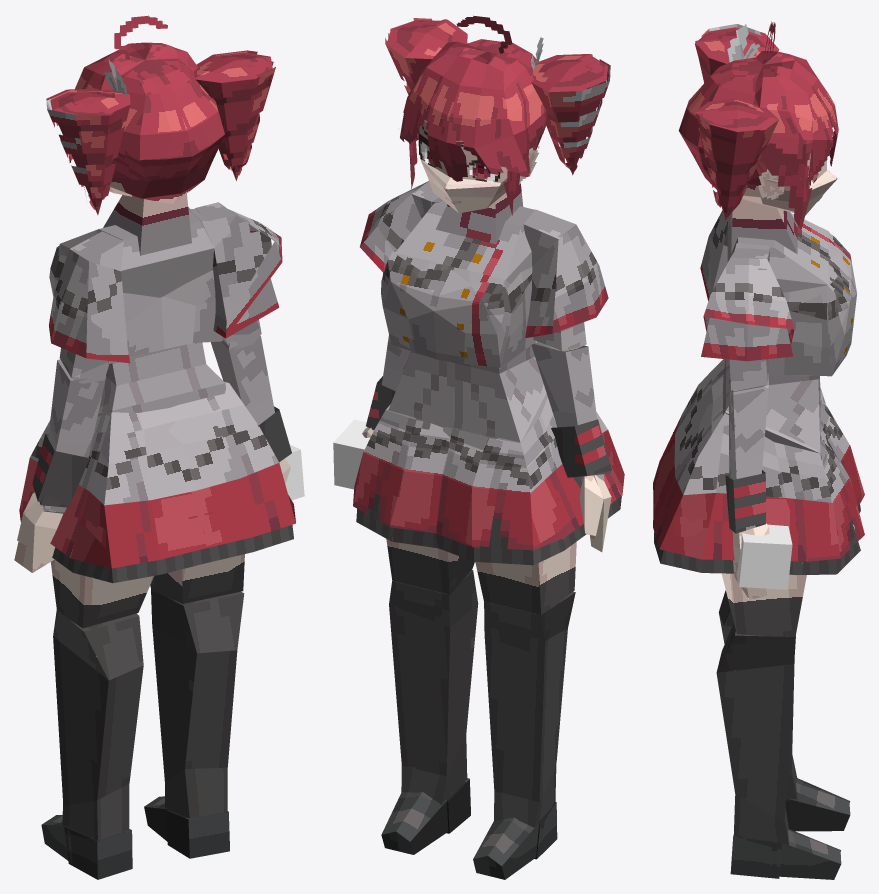
Rendered from teto.gltf.
3 renders of one model, left to right at view 1: azimuth 30°, elevation 25°; view 2: azimuth 150°, elevation 25°; view 3: azimuth 270°, elevation 25°, orthographic. The views are drawn at different scales.
Visible parts, largest first — view 1: Dress (×2), right_leg (×2), left_leg (×2), Body, Head_selection, Drills, right sleeve, left sleeve, right_arm (×2), Booba_selection, left_arm (×2), right_shoe (+5 smaller); view 2: Dress (×2), right_leg (×2), left_leg (×2), Body, Head_selection, Booba_selection, Drills, right sleeve, right_arm (×2), left_shoe, right_shoe, left sleeve (+5 smaller); view 3: Dress (×2), left_leg (×2), Head_selection (×2), Body, left sleeve, Drills, Booba_selection, left_arm (×2), left_shoe, Item_pos, right_shoe, left_arm_selection_selection (+3 smaller).
Boxes of the visible parts, x1,y1,x2,y2 form: Dress (×2): (19, 382, 295, 583); right_leg (×2): (51, 559, 153, 840); left_leg (×2): (150, 554, 244, 818); Body: (58, 193, 225, 412); Head_selection: (69, 42, 224, 204); Drills: (46, 50, 275, 214); right sleeve: (49, 231, 130, 363); left sleeve: (188, 202, 282, 338); right_arm (×2): (14, 348, 108, 572); Booba_selection: (49, 245, 222, 363); left_arm (×2): (210, 319, 290, 483); right_shoe: (41, 815, 132, 879); Dress (×2): (353, 391, 624, 565); right_leg (×2): (475, 538, 576, 829); left_leg (×2): (386, 537, 478, 804); Body: (388, 181, 546, 442); Head_selection: (400, 39, 547, 215); Booba_selection: (381, 250, 535, 367); Drills: (385, 18, 610, 175); right sleeve: (523, 209, 608, 338); right_arm (×2): (531, 322, 611, 551); left_shoe: (381, 778, 470, 854); right_shoe: (473, 802, 557, 879); left sleeve: (360, 181, 442, 274); Dress (×2): (653, 359, 864, 574); left_leg (×2): (716, 562, 806, 846); Head_selection (×2): (678, 51, 838, 229); Body: (722, 196, 838, 456); left sleeve: (701, 243, 794, 361); Drills: (695, 24, 778, 220); Booba_selection: (768, 233, 857, 376); left_arm (×2): (728, 359, 769, 599); left_shoe: (730, 829, 841, 879); Item_pos: (736, 524, 792, 589); right_shoe: (785, 778, 850, 831); left_arm_selection_selection: (725, 470, 765, 533).
Bounding box in the file's own units: 0.7776 × 2.31 × 0.5395.
2 materials, 1 textured.
